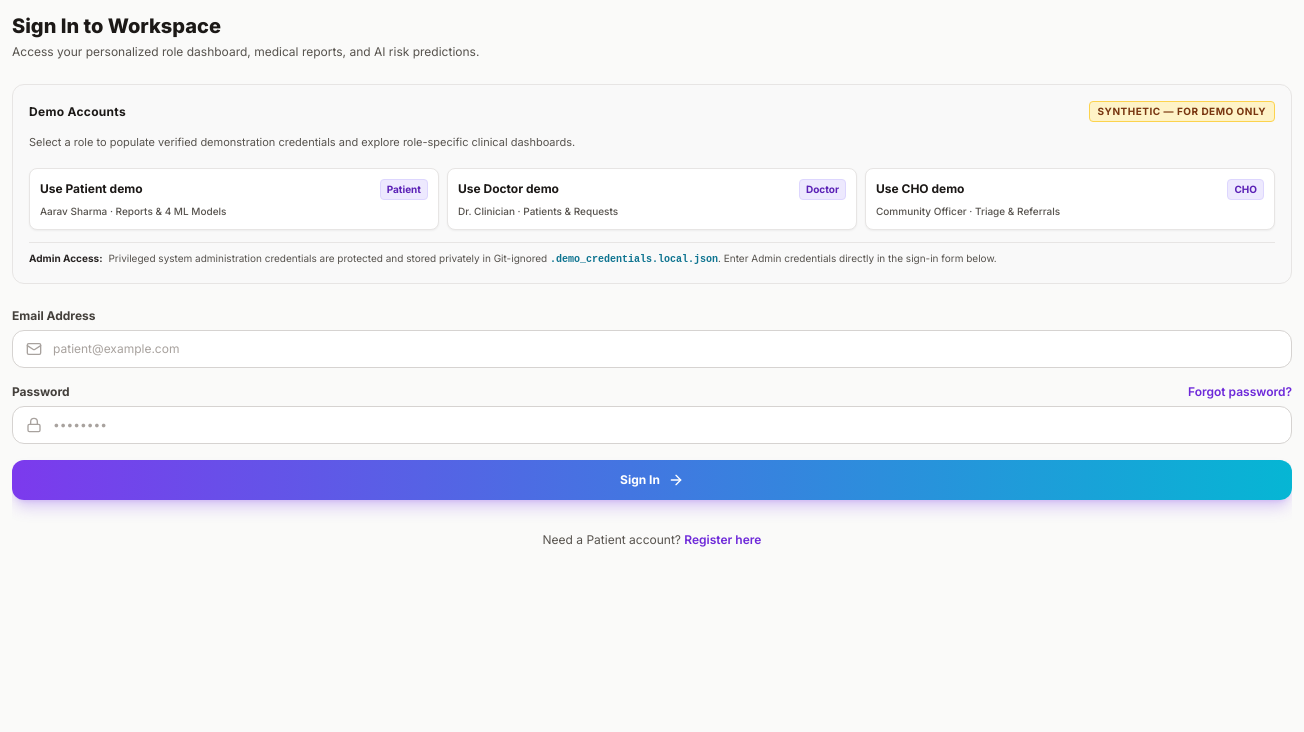
Scenario: Login Component Tests › renders login form and development-only role demo buttons
This screenshot has width=1304, height=732.
Expected: the field with placeholder "patient@example.com" is shown, [12,330,1292,368]
Expected: the password field with placeholder "••••••••" is shown, [12,406,1292,444]
Click the button "Use Doctor demo": (503, 189) [447,168,857,230]
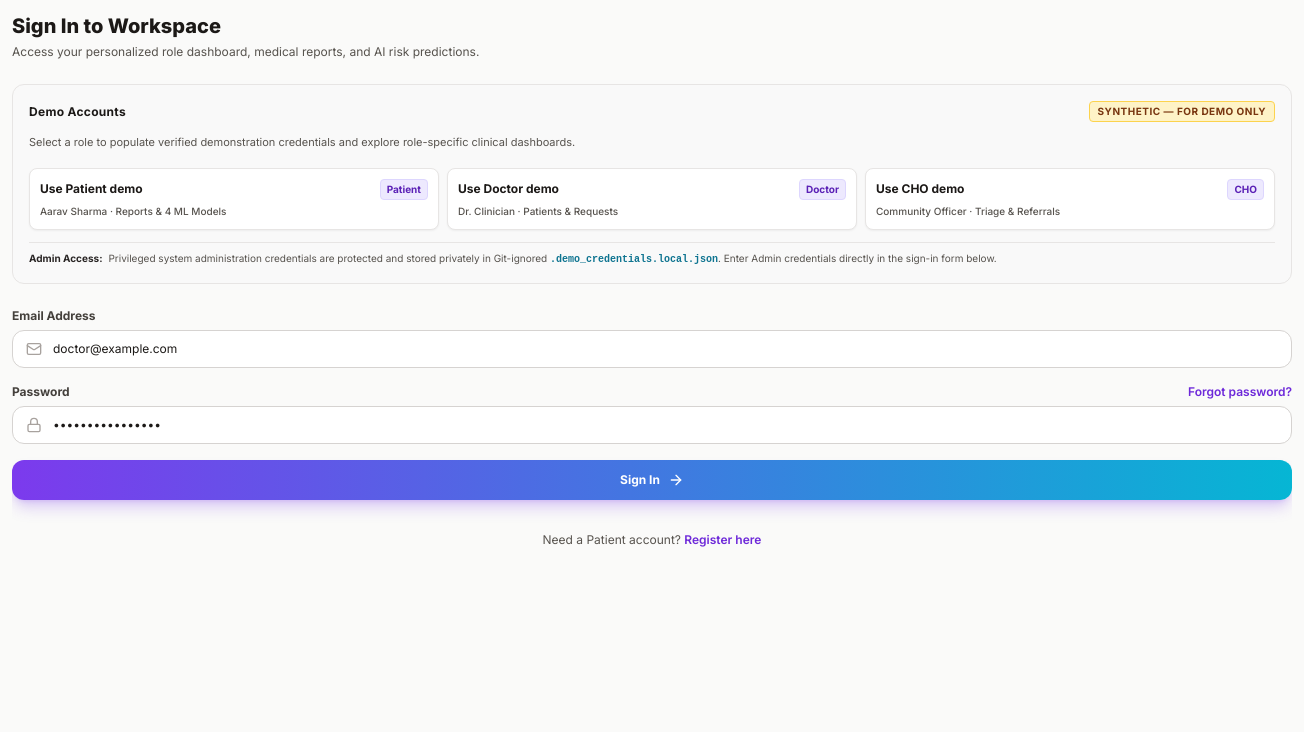
Expected: the field with placeholder "patient@example.com" holds "doctor@example.com", [12,330,1292,368]
Expected: the password field with placeholder "••••••••" holds "MedScanDemo!2026", [12,406,1292,444]
